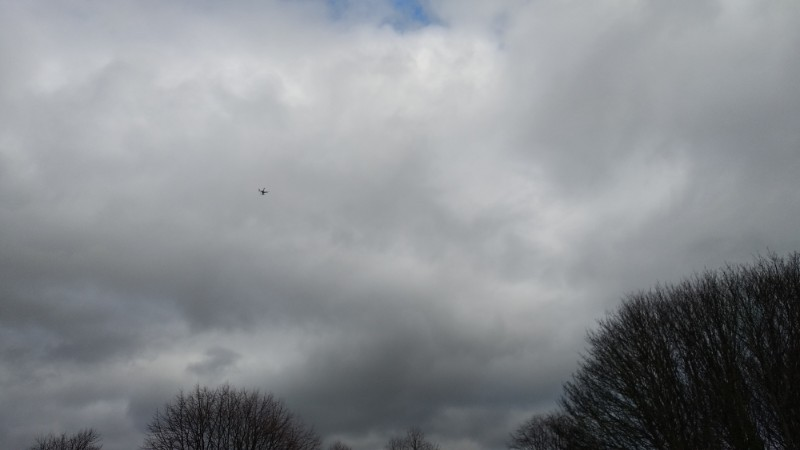drone: (258, 187, 269, 196)
